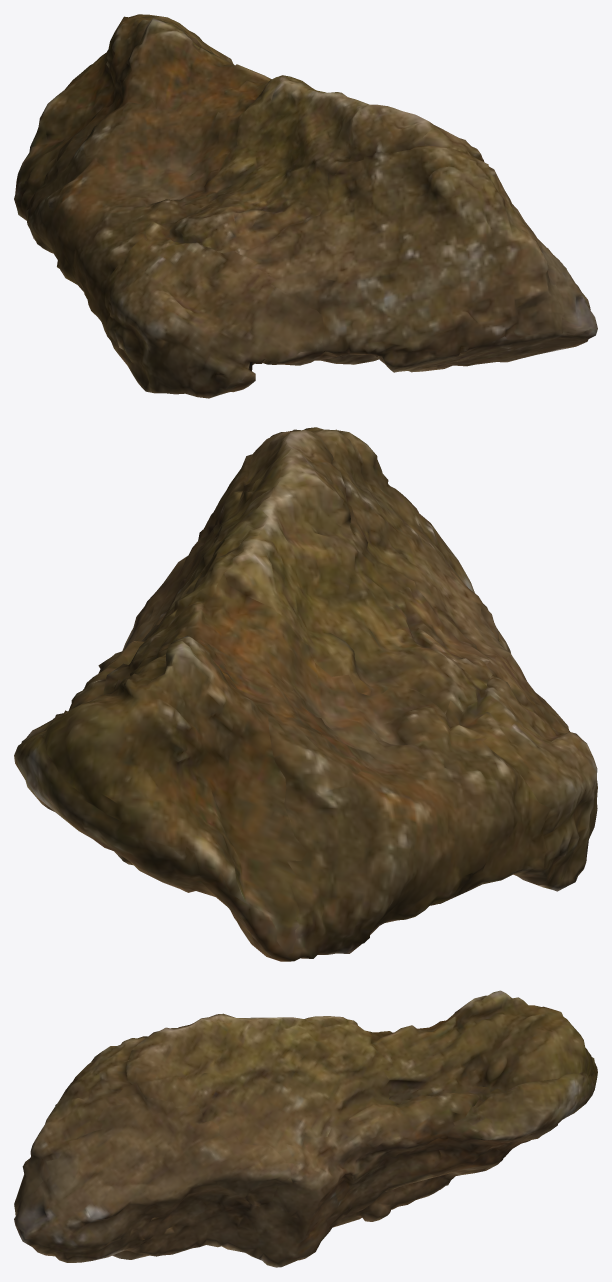
3 renders of one model, top to bottom at view 1: azimuth 30°, elevation 25°; view 2: azimuth 150°, elevation 25°; view 3: azimuth 270°, elevation 25°, orthographic. The views are drawn at different scales.
Visible parts, largest first — view 1: rock_moss_set_01_rock01; view 2: rock_moss_set_01_rock01; view 3: rock_moss_set_01_rock01.
Part boxes in pixels (x1=…): rock_moss_set_01_rock01: x1=14, y1=14, x2=597, y2=398; rock_moss_set_01_rock01: x1=14, y1=427, x2=597, y2=961; rock_moss_set_01_rock01: x1=14, y1=990, x2=597, y2=1267.
Bounding box in the file's own units: 2.24 × 1.47 × 3.37.
1 material, 1 textured.
